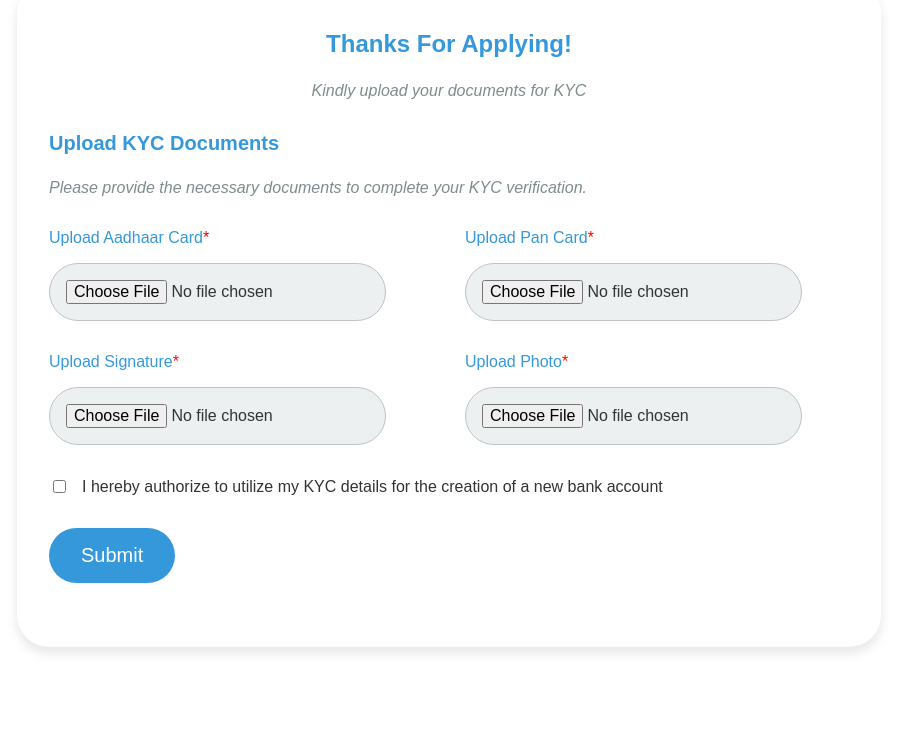
Test case: UploadKYC Component › shows validation errors when fields are empty
What coordinates should you click on to do the following:
click the button "Submit"
I would click on:
 (112, 556)
Its box is [49, 528, 175, 583].
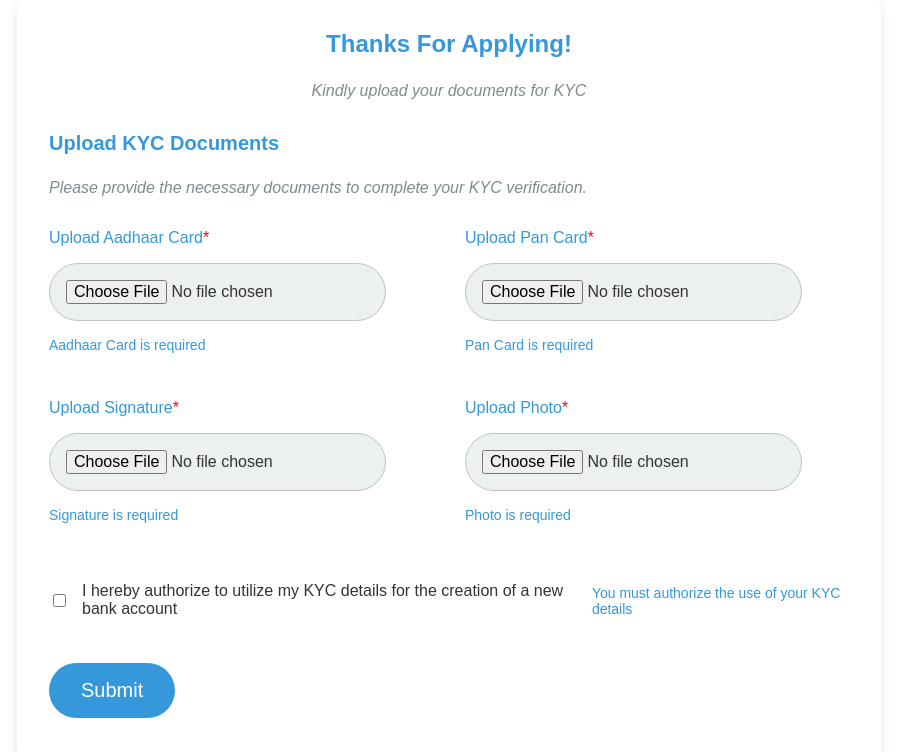
Result: the text "Aadhaar Card is required" is shown at [49, 337, 205, 353]
Result: the text "Pan Card is required" is shown at [465, 337, 593, 353]
Result: the text "Signature is required" is shown at [49, 507, 178, 523]
